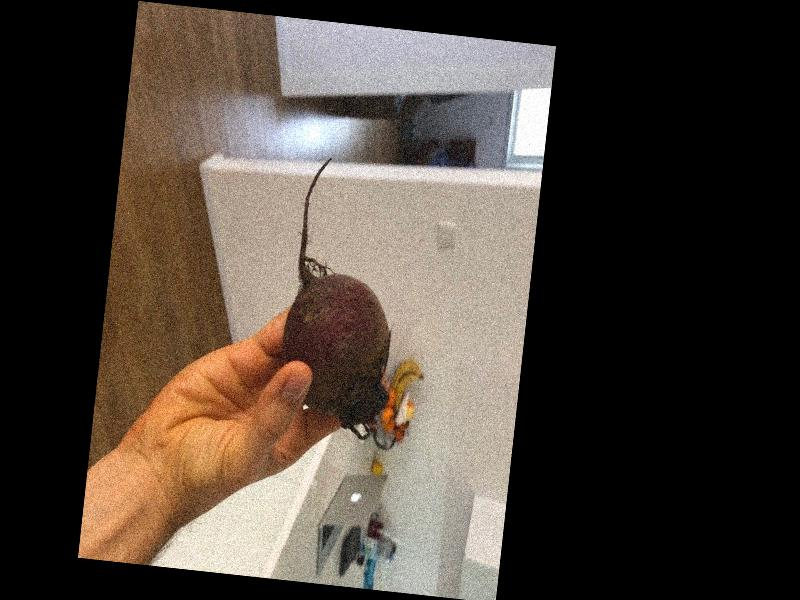Beet: (274, 154, 412, 440)
